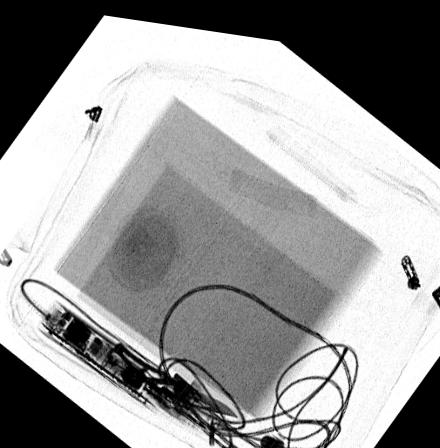Knife: (113, 352, 236, 410)
